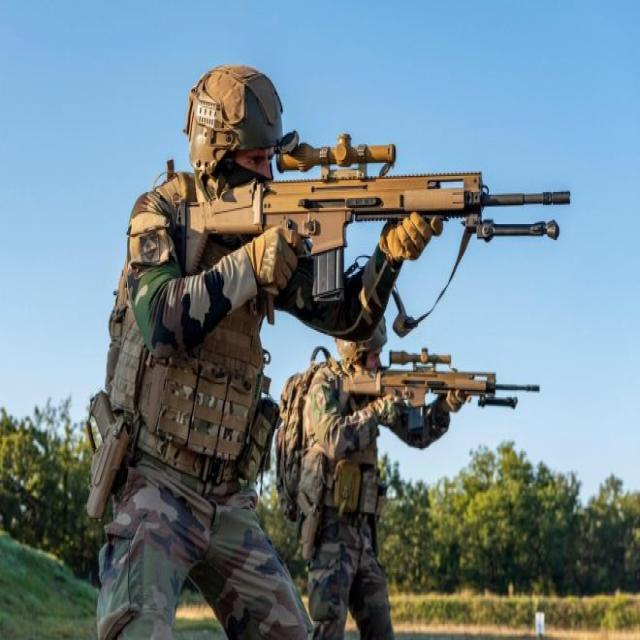Rifle: (170, 135, 574, 296), (336, 346, 542, 444)
